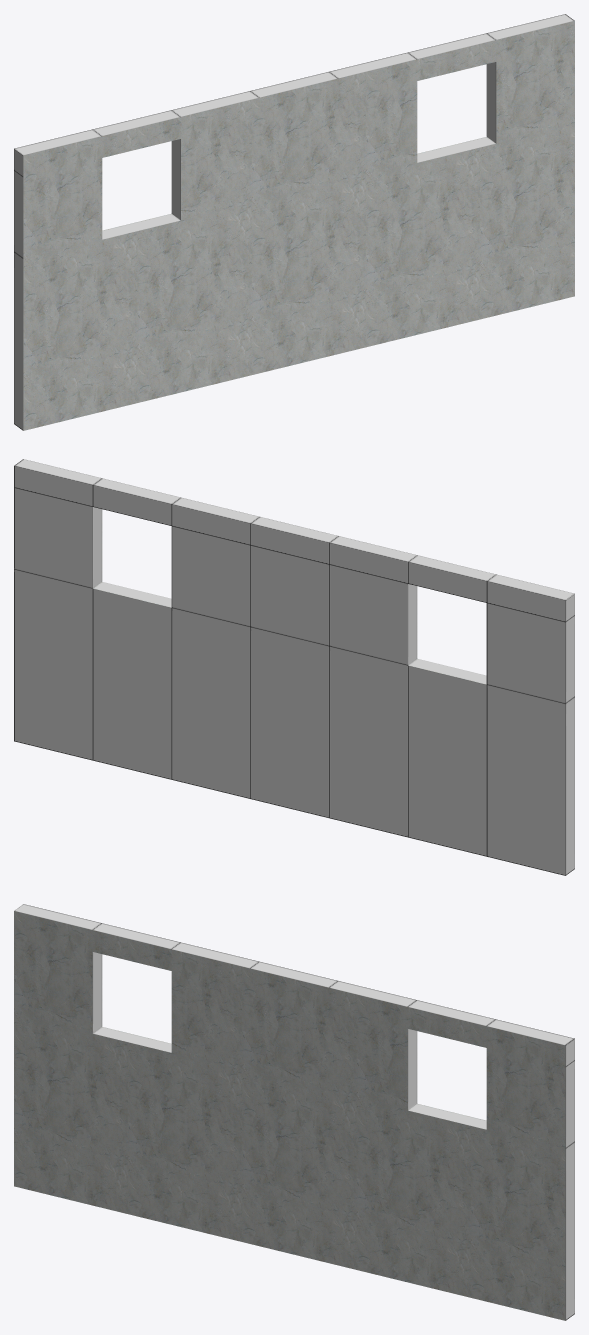
File: backwall.fbx
The picture shows the model from 3 angles, top to bottom: view 1: azimuth 30°, elevation 25°; view 2: azimuth 150°, elevation 25°; view 3: azimuth 330°, elevation 25°; orthographic projection.
Visible parts, largest first — view 1: Cube.001; view 2: Cube.001; view 3: Cube.001.
Boxes of the visible parts, left/top/right/bottom form: Cube.001: left=14, top=14, right=574, bottom=430; Cube.001: left=14, top=459, right=574, bottom=875; Cube.001: left=14, top=904, right=574, bottom=1320.
Size of the model in its own units: 6762 by 3227 by 200.
Materials: 1 (1 with a texture image).
